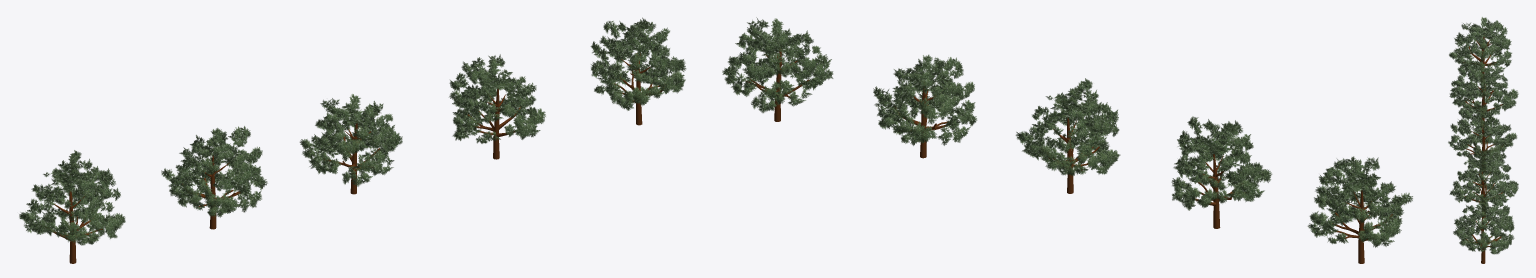
File: treeline.glb
The picture shows the model from 3 angles, left to right: view 1: azimuth 30°, elevation 25°; view 2: azimuth 150°, elevation 25°; view 3: azimuth 270°, elevation 25°; orthographic projection. The views are drawn at different scales.
Visible parts, largest first — view 1: tree1; view 2: tree1; view 3: tree1.
Part boxes in pixels (x1,y1,x2,y2): tree1: (19, 17, 686, 263); tree1: (722, 17, 1412, 263); tree1: (1448, 17, 1518, 263).
Size of the model in its own units: 94.16 by 13.97 by 14.3.
2 materials, 1 textured.
